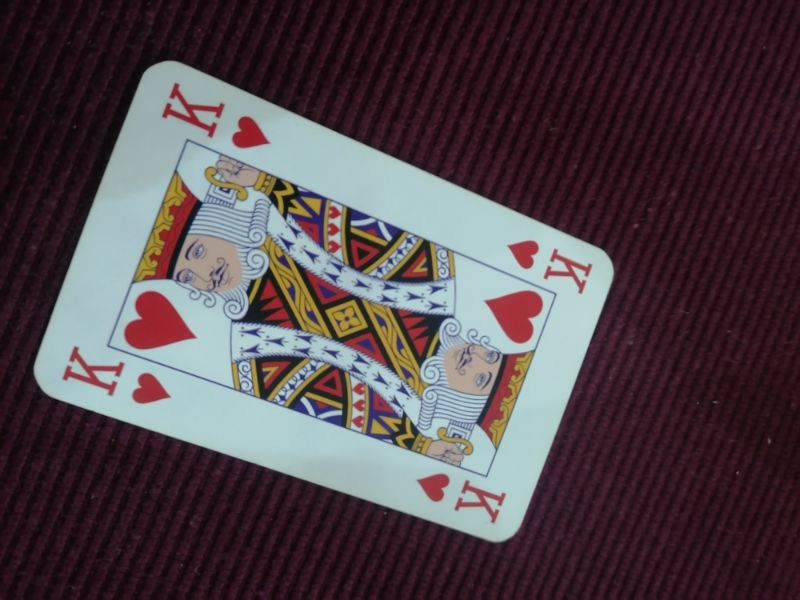Kh: (156, 80, 275, 153), (59, 345, 175, 410), (504, 235, 596, 297), (411, 469, 510, 525)
